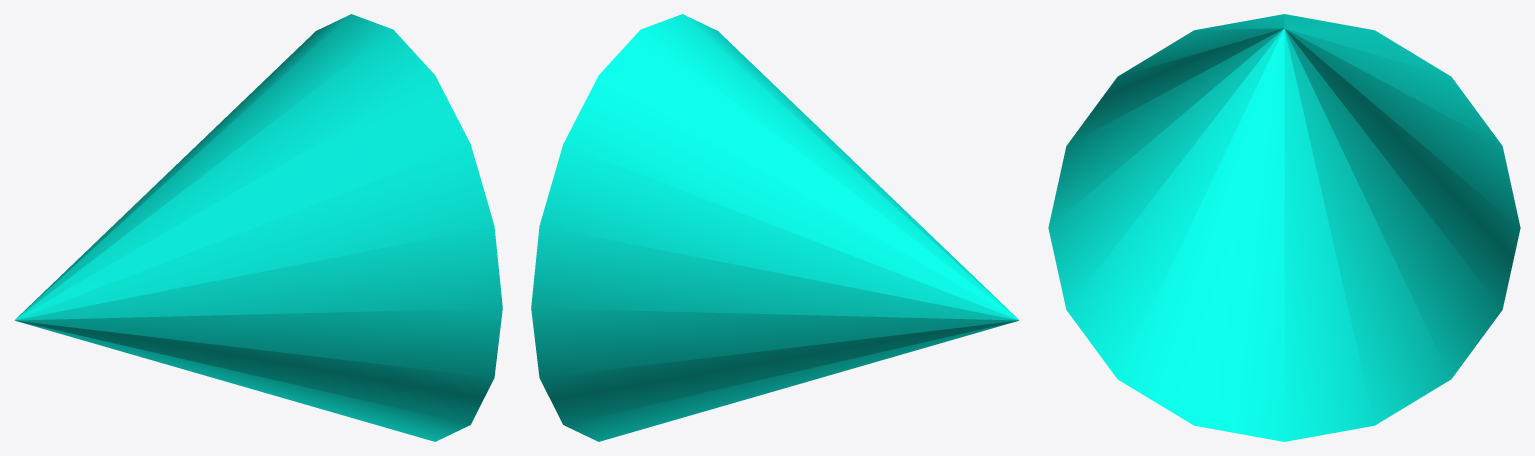
File: antennaCone.dae
3 views of the same model, side by side, from view 1: azimuth 30°, elevation 25°; view 2: azimuth 150°, elevation 25°; view 3: azimuth 270°, elevation 25° (orthographic). The views are drawn at different scales.
Parts seen in each view (by area): view 1: Cone; view 2: Cone; view 3: Cone.
Boxes of the visible parts, x1,y1,x2,y2 form: Cone: [14, 14, 502, 441]; Cone: [531, 14, 1019, 441]; Cone: [1048, 14, 1520, 441].
Bounding box in the file's own units: 38.4 × 38.4 × 38.4.
